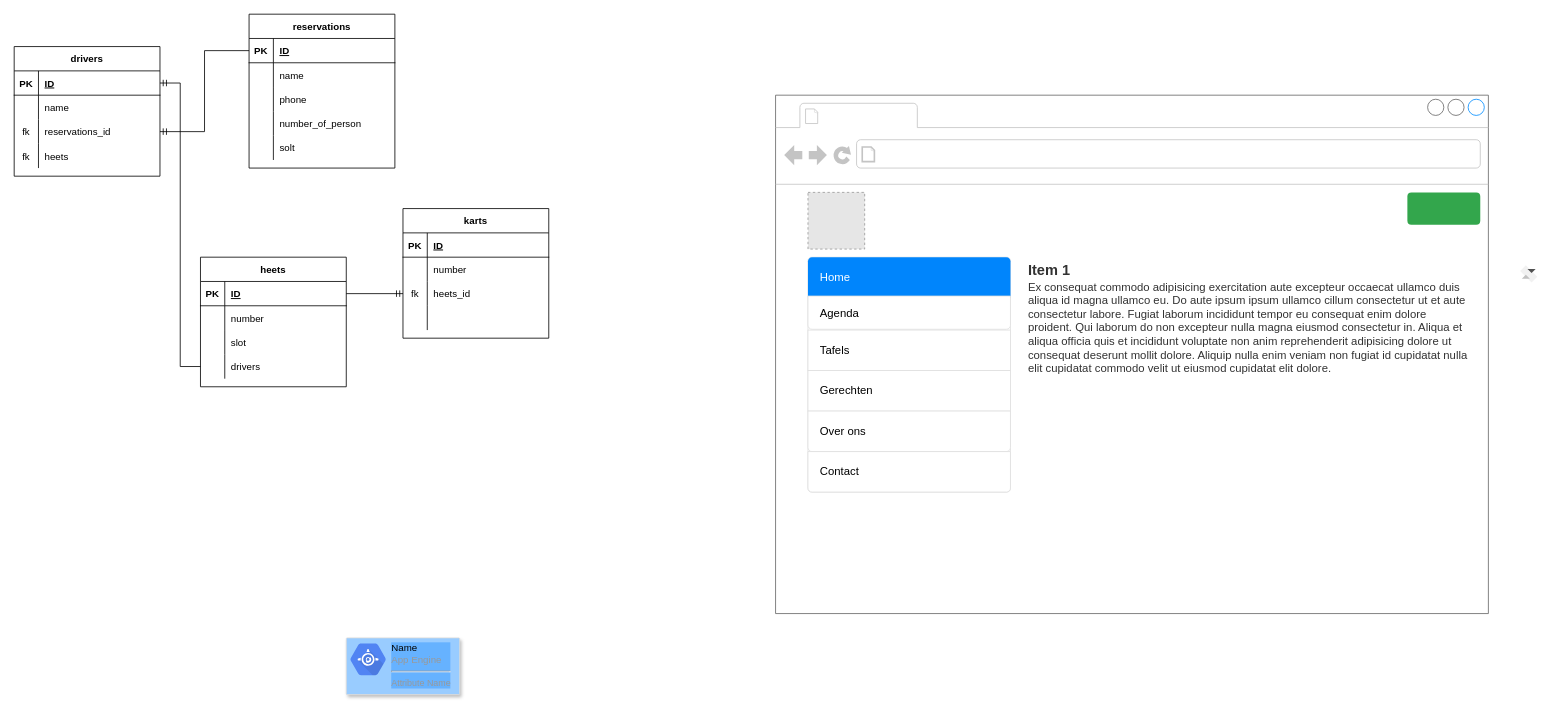
The diagram is 1551 pixels wide and 714 high, and some of its shapes have lost their labels. Grey dashed boxes stand in for pictures. Here are the shapes that lost their labels. From the top down, the centre of each, then its label:
At pixel 868 115: "Page 1".
At pixel 981 154: "https://www.test.io".
At pixel 1443 208: "Success".
